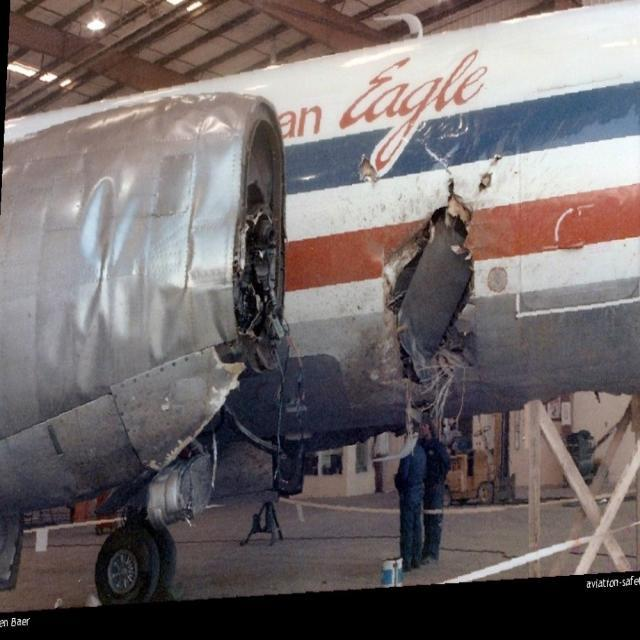dent: (44, 176, 199, 408)
